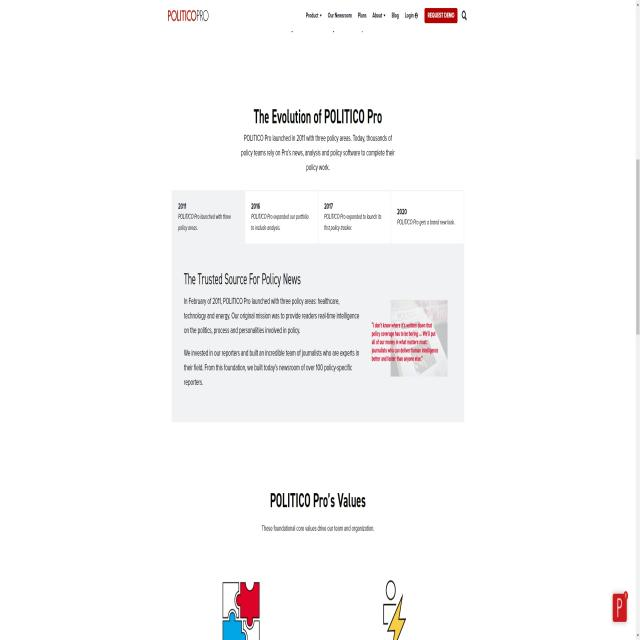content: (174, 260, 456, 406)
menu-bar: (304, 4, 422, 23)
tab-bar: (170, 184, 466, 249)
